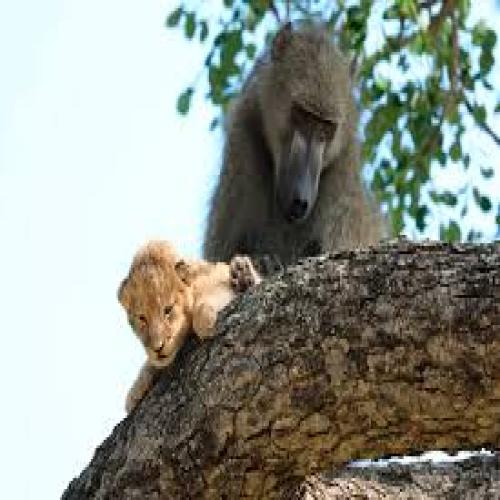lion-endangered: (117, 235, 268, 409)
